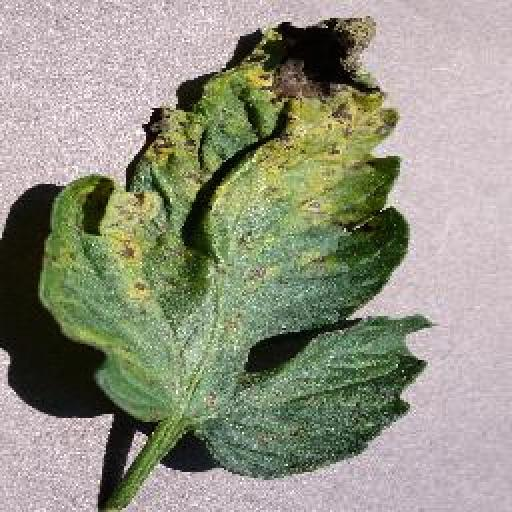disease_tomato: (40, 14, 438, 476)
